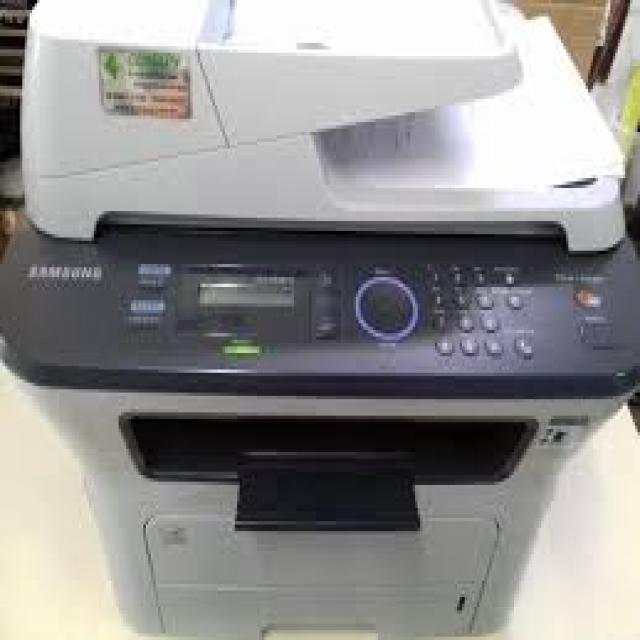printer: (1, 0, 640, 636)
